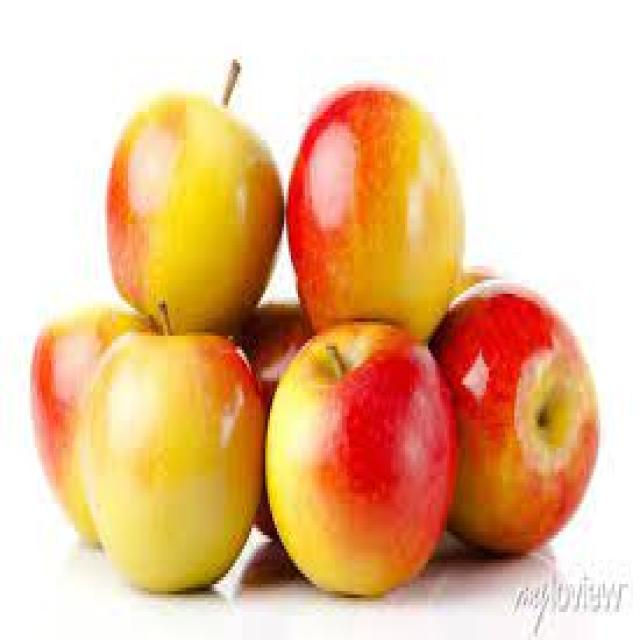non_orange: (396, 253, 622, 575), (72, 64, 294, 376), (255, 322, 454, 640), (268, 83, 473, 365), (78, 306, 261, 608), (17, 288, 183, 558)
